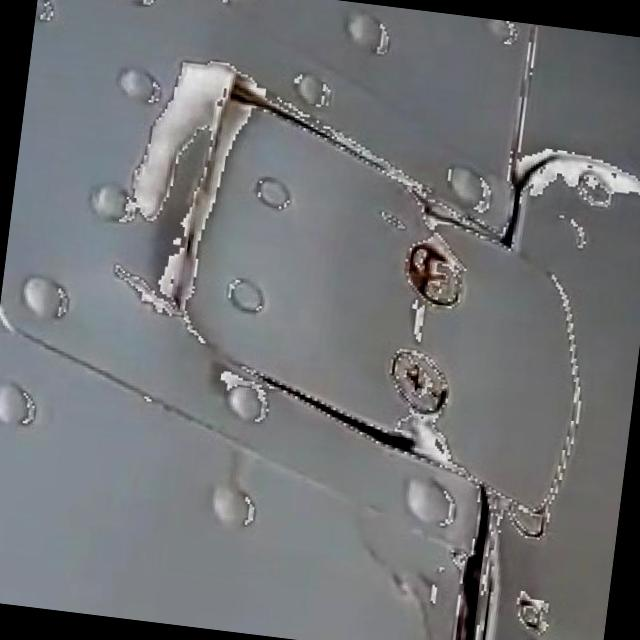crack: (389, 301, 434, 351)
